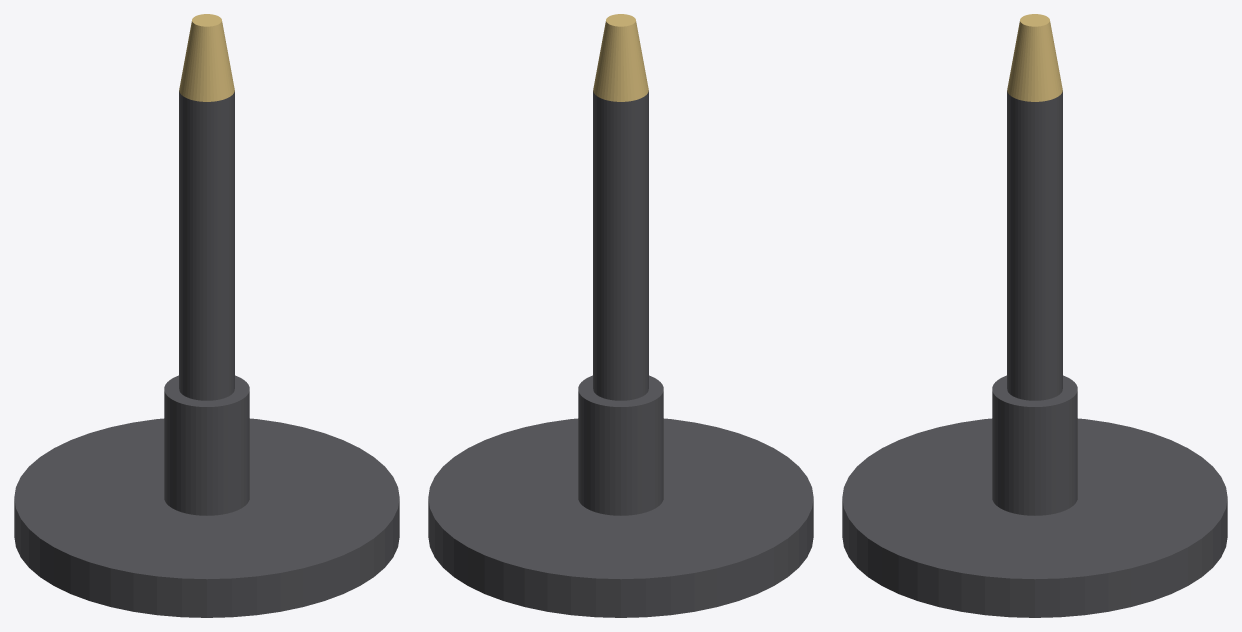
File: bunsen-burner.glb
The picture shows the model from 3 angles, left to right: view 1: azimuth 30°, elevation 25°; view 2: azimuth 150°, elevation 25°; view 3: azimuth 270°, elevation 25°; orthographic projection.
Parts seen in each view (by area): view 1: bunsen-burner-base, bunsen-burner-stem, bunsen-burner-air-collar, bunsen-burner-nozzle; view 2: bunsen-burner-base, bunsen-burner-stem, bunsen-burner-air-collar, bunsen-burner-nozzle; view 3: bunsen-burner-base, bunsen-burner-stem, bunsen-burner-air-collar, bunsen-burner-nozzle.
Boxes of the visible parts, bbox=[...] form: bunsen-burner-base: bbox=[14, 418, 399, 617]; bunsen-burner-stem: bbox=[179, 90, 234, 400]; bunsen-burner-air-collar: bbox=[164, 375, 249, 515]; bunsen-burner-nozzle: bbox=[179, 14, 234, 101]; bunsen-burner-base: bbox=[428, 418, 813, 617]; bunsen-burner-stem: bbox=[593, 90, 648, 400]; bunsen-burner-air-collar: bbox=[578, 375, 663, 515]; bunsen-burner-nozzle: bbox=[593, 14, 648, 101]; bunsen-burner-base: bbox=[842, 418, 1227, 617]; bunsen-burner-stem: bbox=[1007, 90, 1062, 400]; bunsen-burner-air-collar: bbox=[992, 375, 1077, 515]; bunsen-burner-nozzle: bbox=[1007, 14, 1062, 101].
Size of the model in its own units: 0.09 by 0.133 by 0.09.
